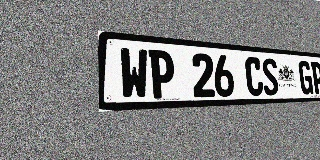2: (191, 53, 215, 97)
6: (213, 54, 235, 97)
C: (244, 57, 264, 96)
G: (298, 61, 313, 94)
P: (148, 49, 175, 99), (310, 62, 320, 94)
S: (261, 58, 279, 95)
W: (119, 47, 149, 99)
